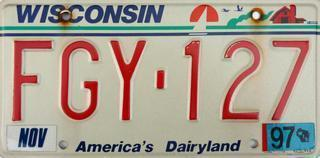placa de veiculo: (0, 2, 314, 152)
